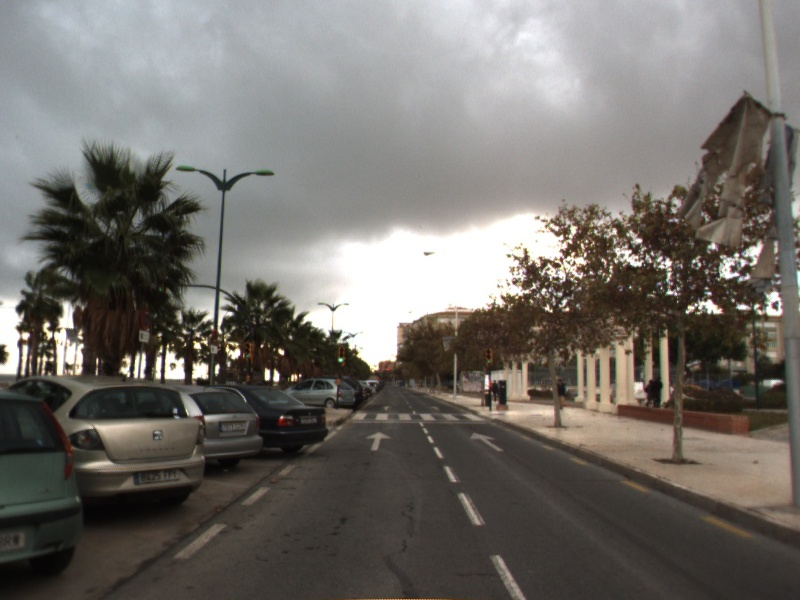STRAIGHT: (468, 431, 505, 453), (364, 430, 392, 453)
